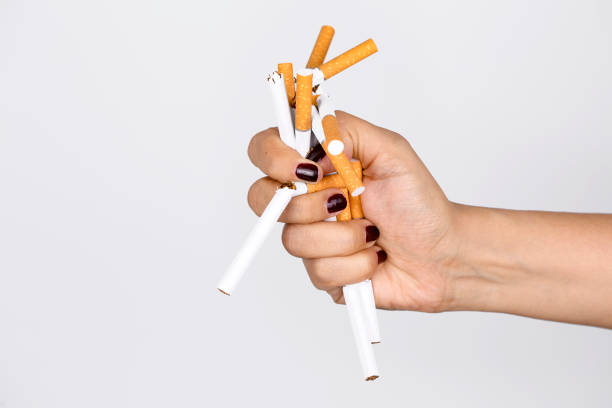cigarette: (213, 182, 295, 301), (349, 196, 384, 346), (311, 103, 366, 197), (343, 283, 381, 384), (312, 37, 379, 87), (266, 70, 296, 148), (315, 91, 346, 157), (295, 68, 313, 157), (289, 172, 347, 198), (305, 22, 337, 69), (277, 60, 295, 129), (337, 188, 352, 224), (351, 158, 363, 180)
